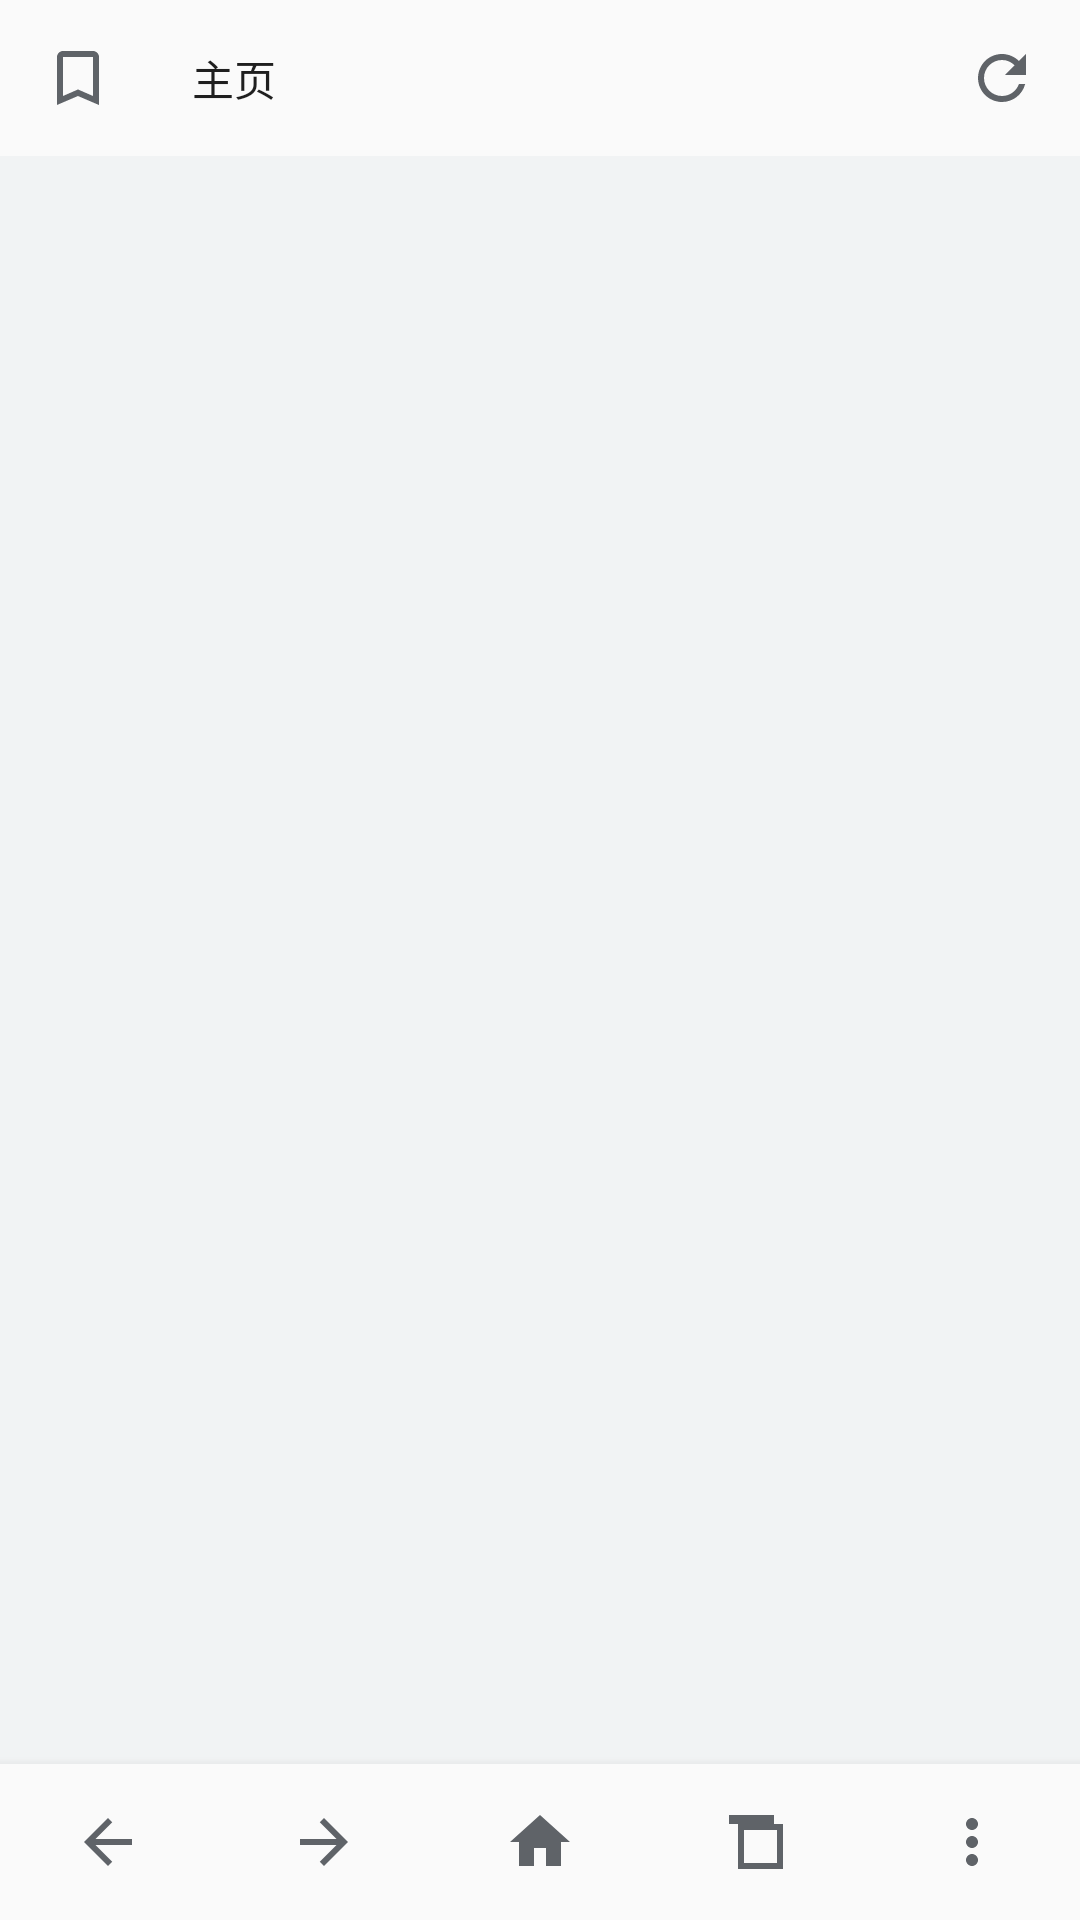

Where to tap for icons on this 1080w x 1920h app screen, as (x=x, y=y):
主页: (x=540, y=1840)
书签: (x=78, y=78)
刷新: (x=1002, y=78)
前进: (x=324, y=1842)
后退: (x=108, y=1842)
标签页: (x=756, y=1842)
菜单: (x=972, y=1842)
